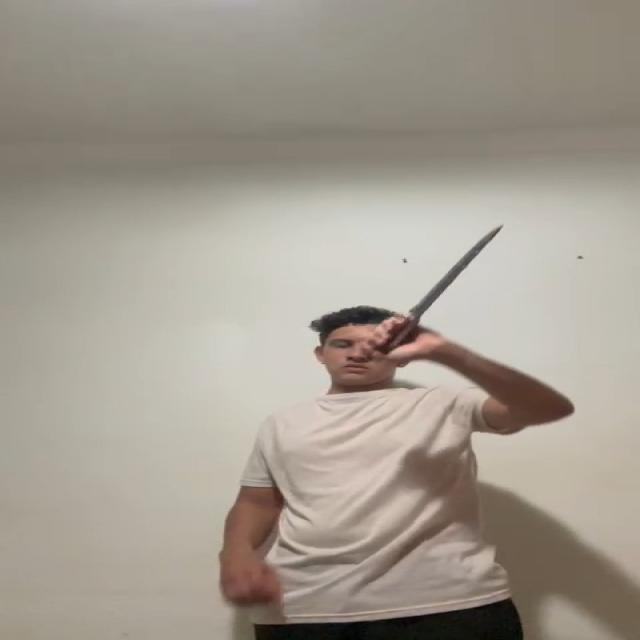knife: (405, 226, 502, 317)
